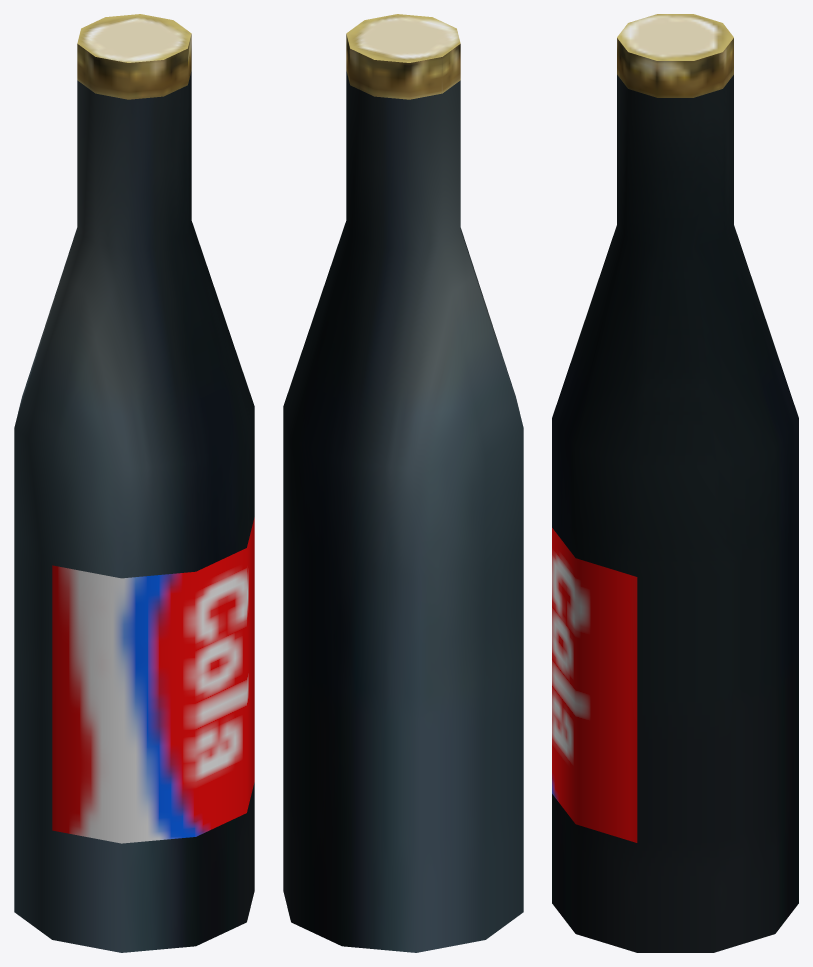
The model's file is giftgoods081c.fbx.
The picture shows the model from 3 angles, left to right: view 1: azimuth 30°, elevation 25°; view 2: azimuth 150°, elevation 25°; view 3: azimuth 270°, elevation 25°; orthographic projection.
Visible parts, largest first — view 1: giftgoods081c; view 2: giftgoods081c; view 3: giftgoods081c.
Boxes of the visible parts, <box> form: giftgoods081c: <box>14,14,254,952</box>; giftgoods081c: <box>283,14,523,952</box>; giftgoods081c: <box>552,14,798,952</box>.
Bounding box in the file's own units: 0.0797 × 0.3241 × 0.0838.
